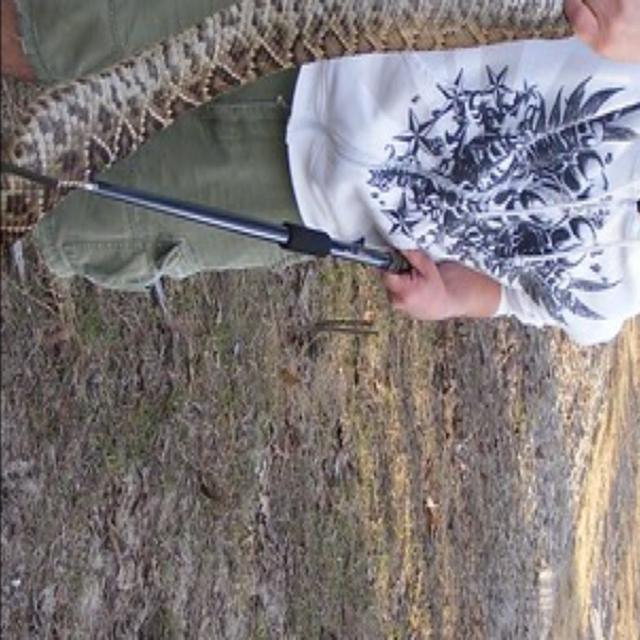Snake: (0, 1, 640, 377)
